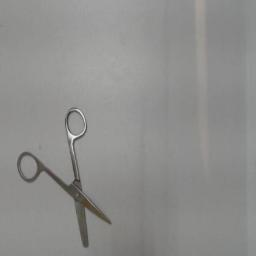Dressing Scissors: (14, 101, 118, 253)
